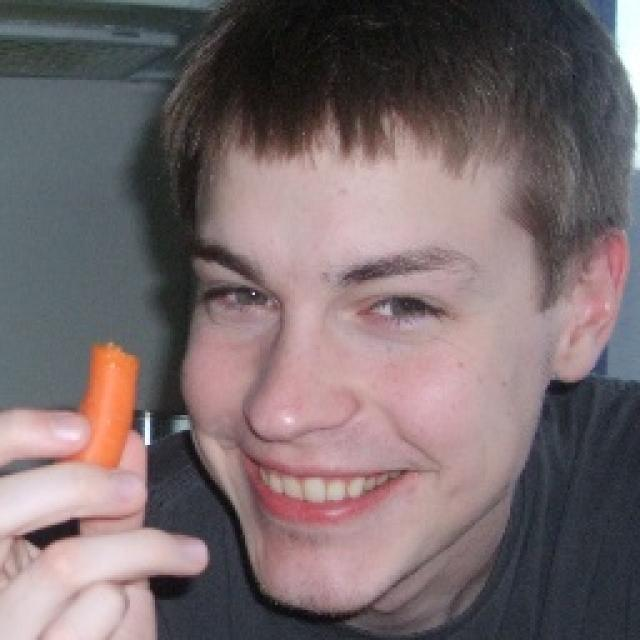earlobe: (552, 349, 602, 387)
eye: (358, 290, 447, 333), (214, 283, 278, 319)
nose: (245, 421, 355, 455)
wholeear: (552, 220, 633, 381)
